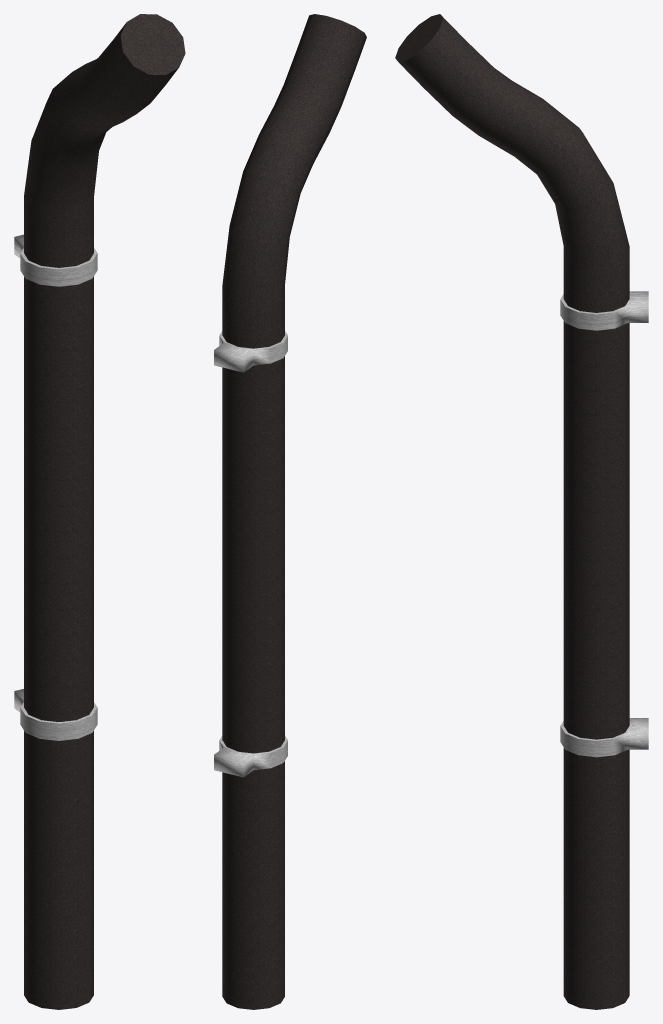
The model's file is drainpipeTop2.glb.
3 renders of one model, left to right at view 1: azimuth 30°, elevation 25°; view 2: azimuth 150°, elevation 25°; view 3: azimuth 270°, elevation 25°, orthographic. The views are drawn at different scales.
Visible parts, largest first — view 1: BezierCurve; view 2: BezierCurve; view 3: BezierCurve.
Boxes of the visible parts, <box> form: BezierCurve: <box>14,14,185,1009</box>; BezierCurve: <box>214,14,366,1009</box>; BezierCurve: <box>395,14,648,1009</box>.
Bounding box in the file's own units: 0.3904 × 5.81 × 1.37.
Materials: 2 (2 with a texture image).
